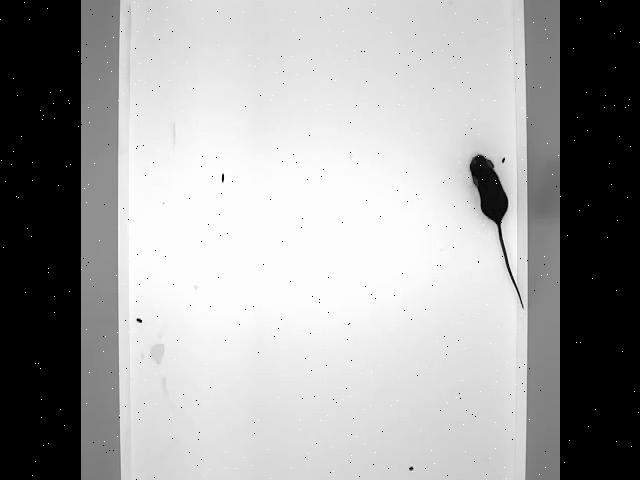Tikus: (468, 151, 526, 312)
